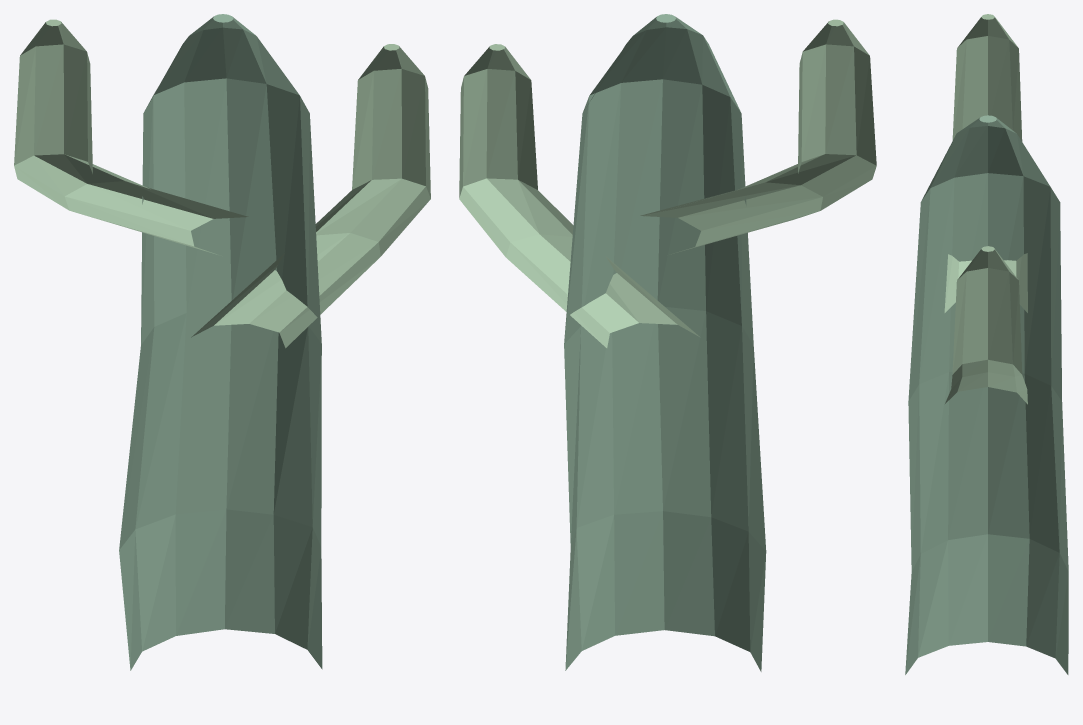
File: cactus_1000_3.glb
The picture shows the model from 3 angles, left to right: view 1: azimuth 30°, elevation 25°; view 2: azimuth 150°, elevation 25°; view 3: azimuth 270°, elevation 25°; orthographic projection. The views are drawn at different scales.
Visible parts, largest first — view 1: cactus_1000_3_0, cactus_1000_3_1, cactus_1000_3_2; view 2: cactus_1000_3_0, cactus_1000_3_1, cactus_1000_3_2; view 3: cactus_1000_3_0, cactus_1000_3_1, cactus_1000_3_2.
Boxes of the visible parts, <box> form: cactus_1000_3_0: <box>119,14,322,670</box>; cactus_1000_3_1: <box>191,44,430,348</box>; cactus_1000_3_2: <box>14,19,248,254</box>; cactus_1000_3_0: <box>564,14,766,671</box>; cactus_1000_3_1: <box>459,44,700,347</box>; cactus_1000_3_2: <box>640,19,876,254</box>; cactus_1000_3_0: <box>905,115,1068,674</box>; cactus_1000_3_1: <box>945,246,1027,404</box>; cactus_1000_3_2: <box>944,14,1027,312</box>.
Bounding box in the file's own units: 1.16 × 1.87 × 0.4712.
